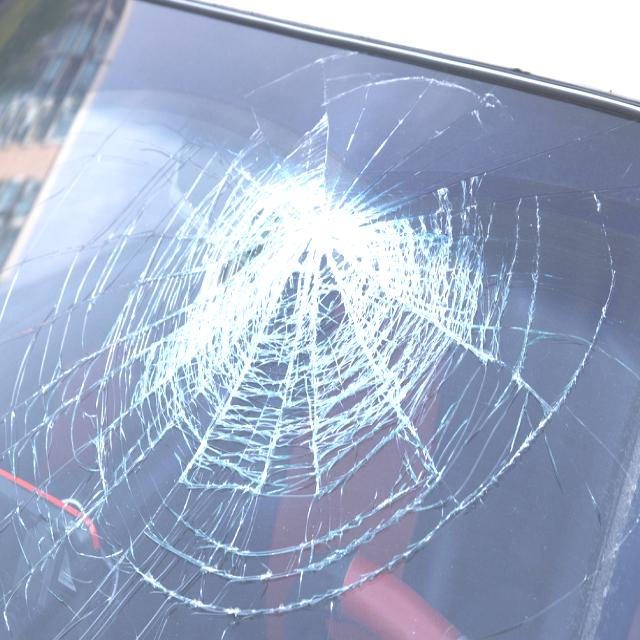Fissure: (0, 42, 640, 640), (293, 189, 353, 277)
